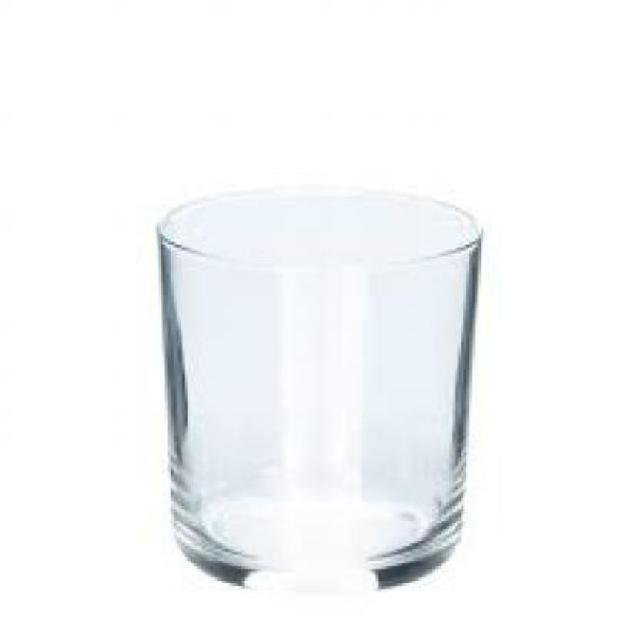kaca: (154, 188, 478, 586)
